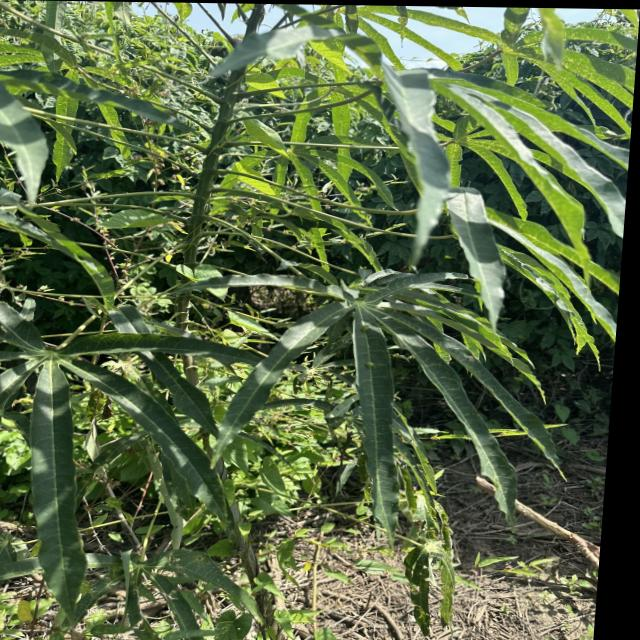Mosca: (359, 349, 387, 376)
